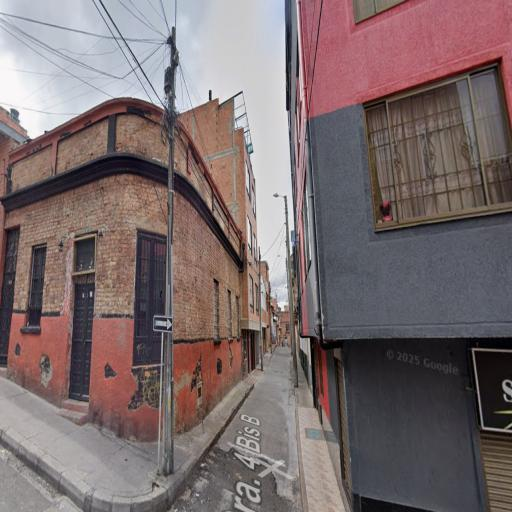Casa: (283, 0, 512, 512), (0, 92, 248, 446)
postes: (157, 22, 182, 479), (273, 186, 301, 391)
